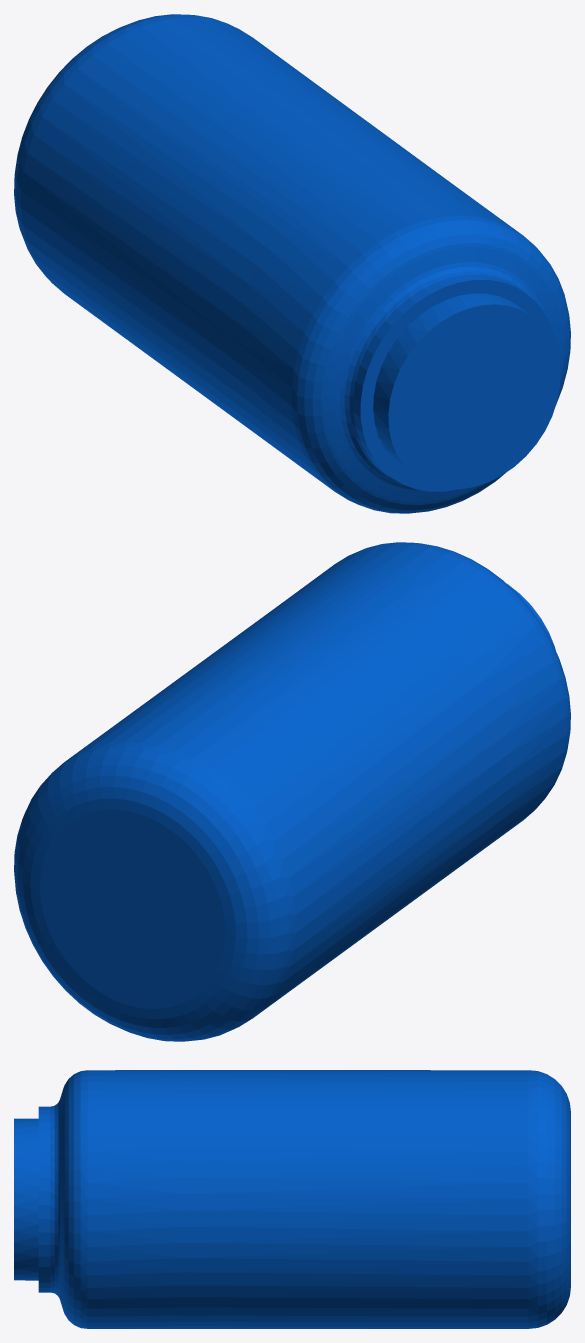
Rendered from Bottle_NoThreads.obj.
The picture shows the model from 3 angles, top to bottom: view 1: azimuth 30°, elevation 25°; view 2: azimuth 150°, elevation 25°; view 3: azimuth 270°, elevation 25°; orthographic projection. The views are drawn at different scales.
Visible parts, largest first — view 1: Bottle_NoThreads; view 2: Bottle_NoThreads; view 3: Bottle_NoThreads.
Part boxes in pixels (x1=…): Bottle_NoThreads: x1=14, y1=14, x2=570, y2=513; Bottle_NoThreads: x1=14, y1=542, x2=570, y2=1041; Bottle_NoThreads: x1=14, y1=1070, x2=570, y2=1328.
Size of the model in its own units: 3.62 by 3.62 by 7.78.
